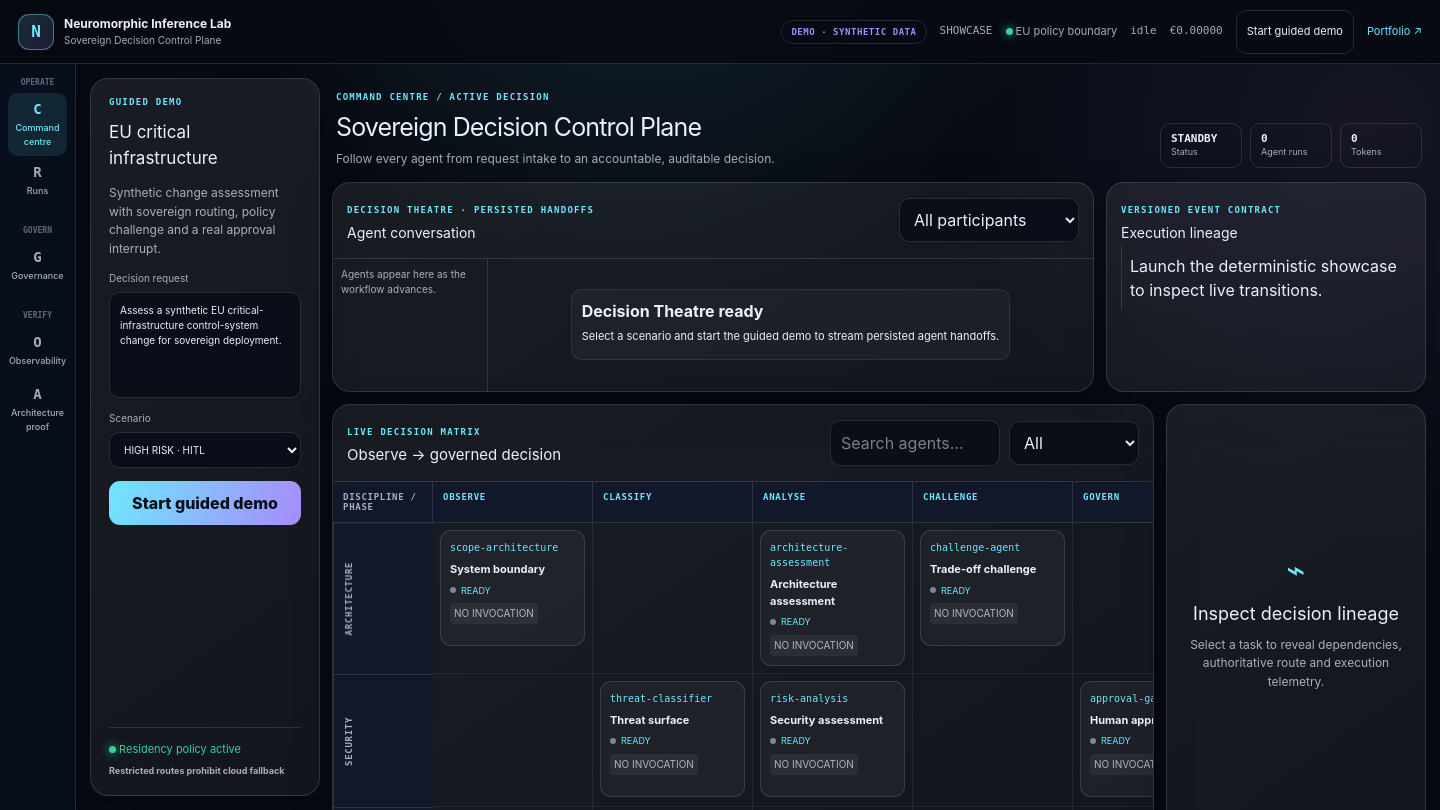
Test: MissionControl approval dialog › reconciles a silent stream with the server and opens the approval dialog
Step 1. Click the button "Start guided demo" → (205,503), box [109,481,301,525]
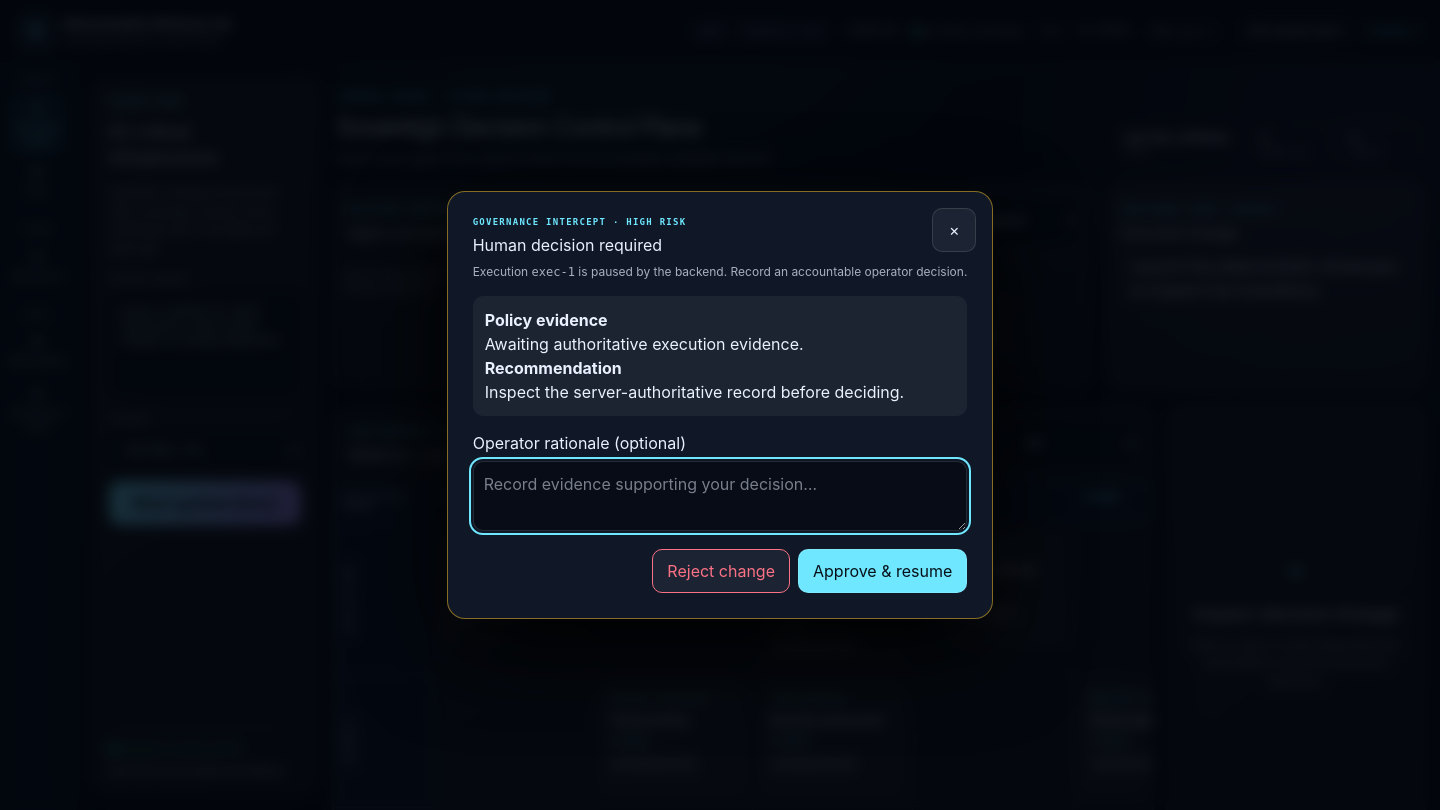
Expected: the dialog "Human decision required" is shown, [447,191,993,619]
